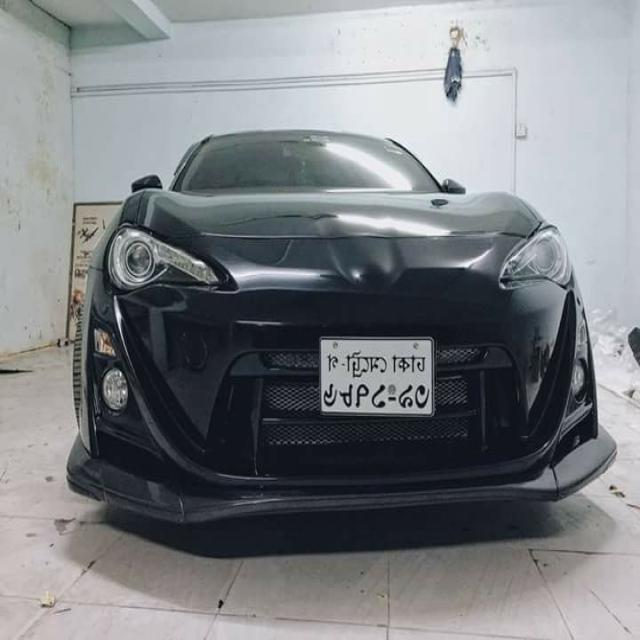numberplate: (319, 334, 436, 417)
